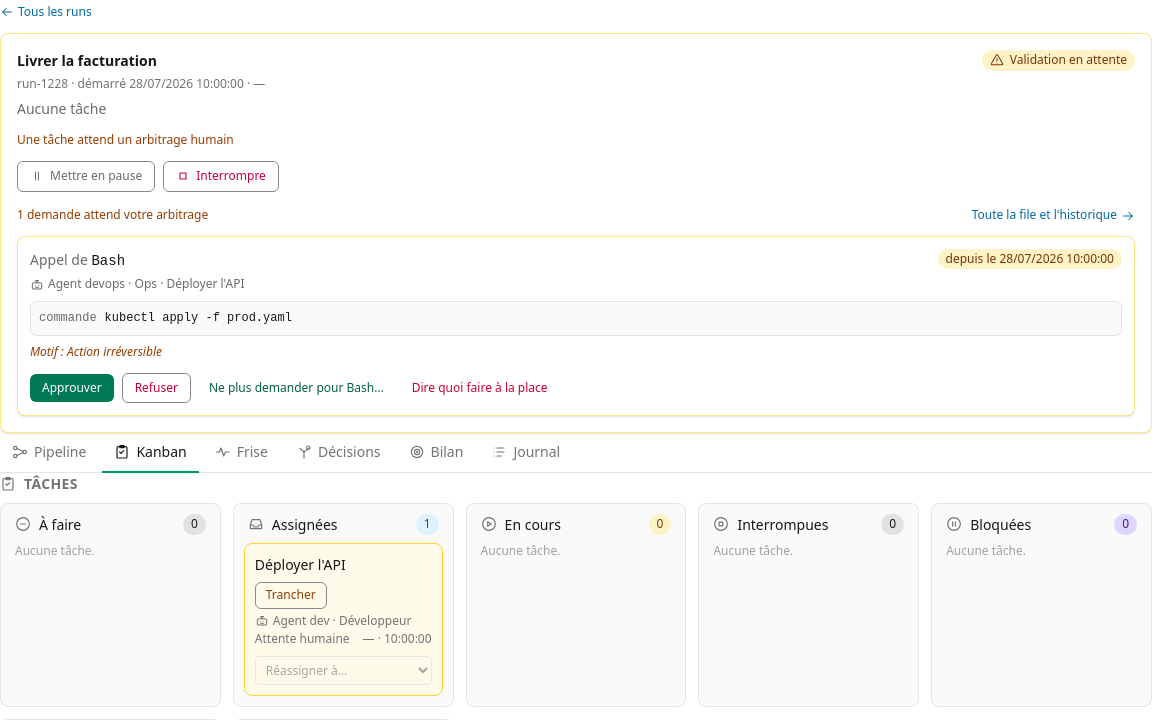
Test: les lectures denses d'un run › la tâche qui attendait repart : la demande tranchée emporte le geste
What coordinates should you click on to do the following:
click the button "Trancher"
I would click on:
 (291, 595)
Its box is [255,582,327,608].
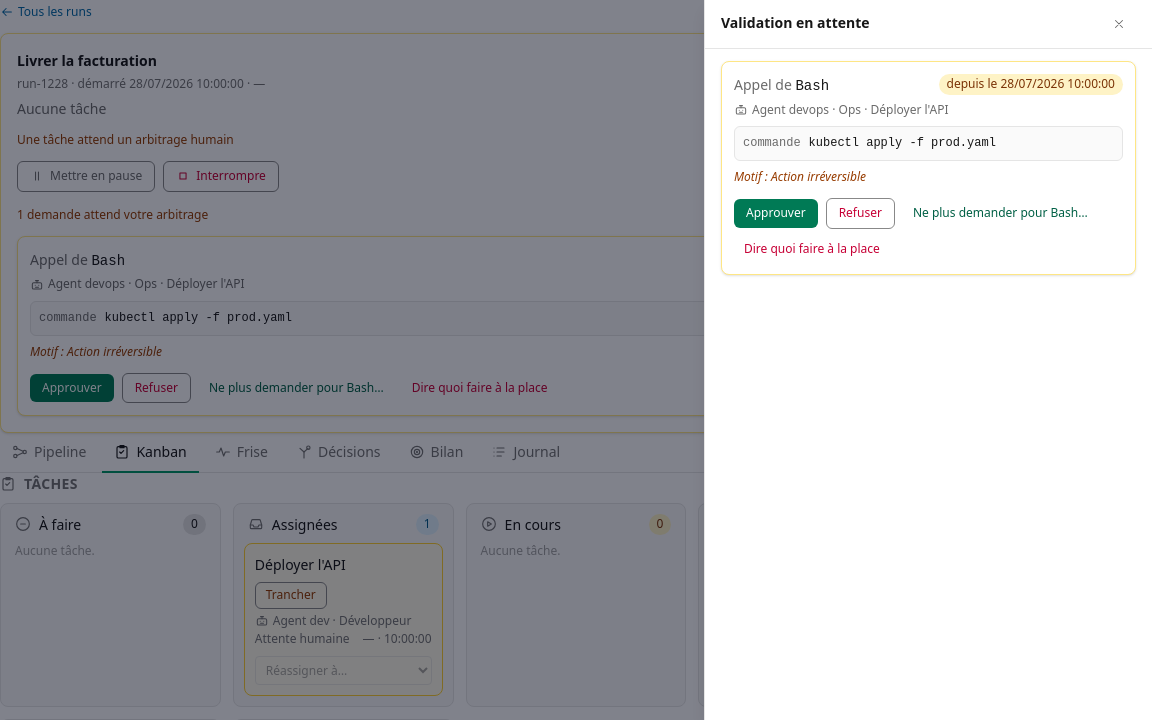
Expected: the dialog named "Trancher la demande" is shown, [704,0,1151,719]
